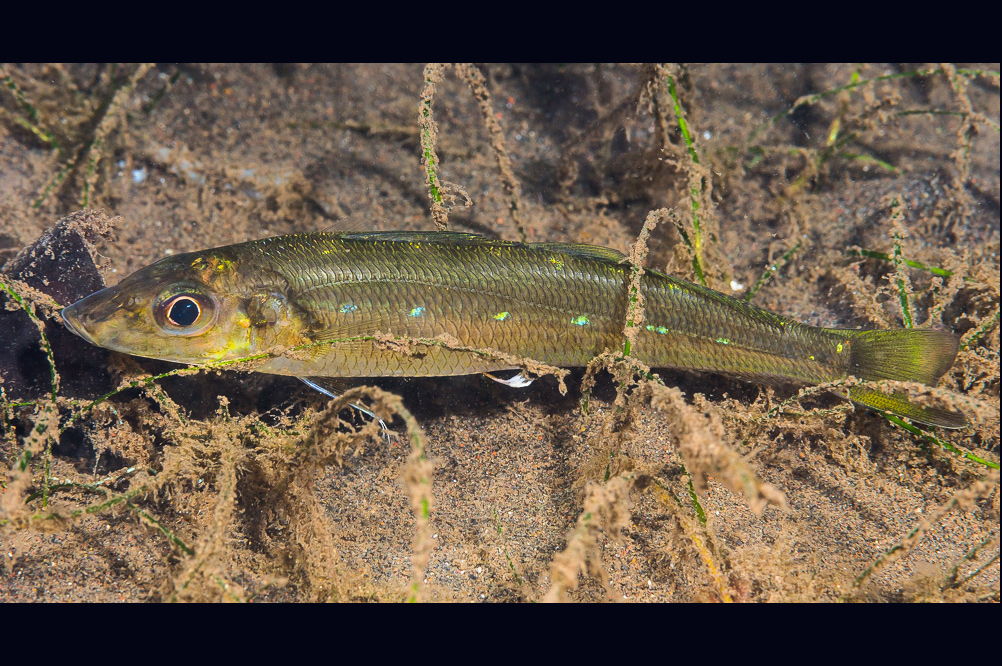kiss: (60, 229, 945, 425)
